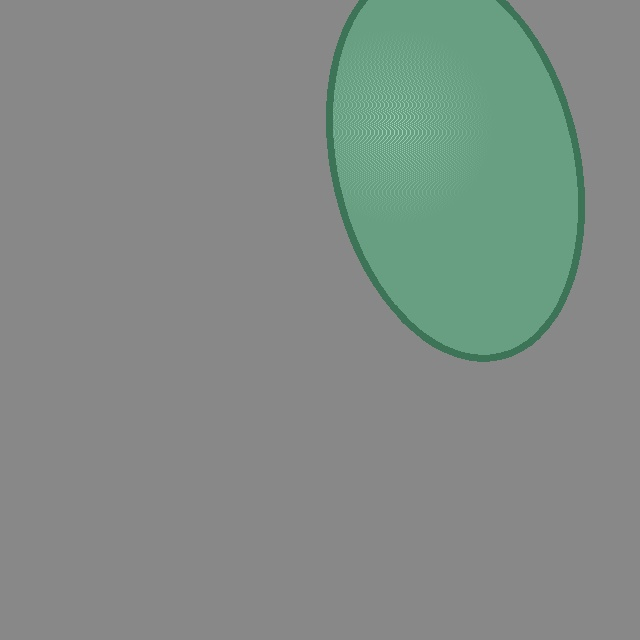lens: (330, 0, 580, 356)
